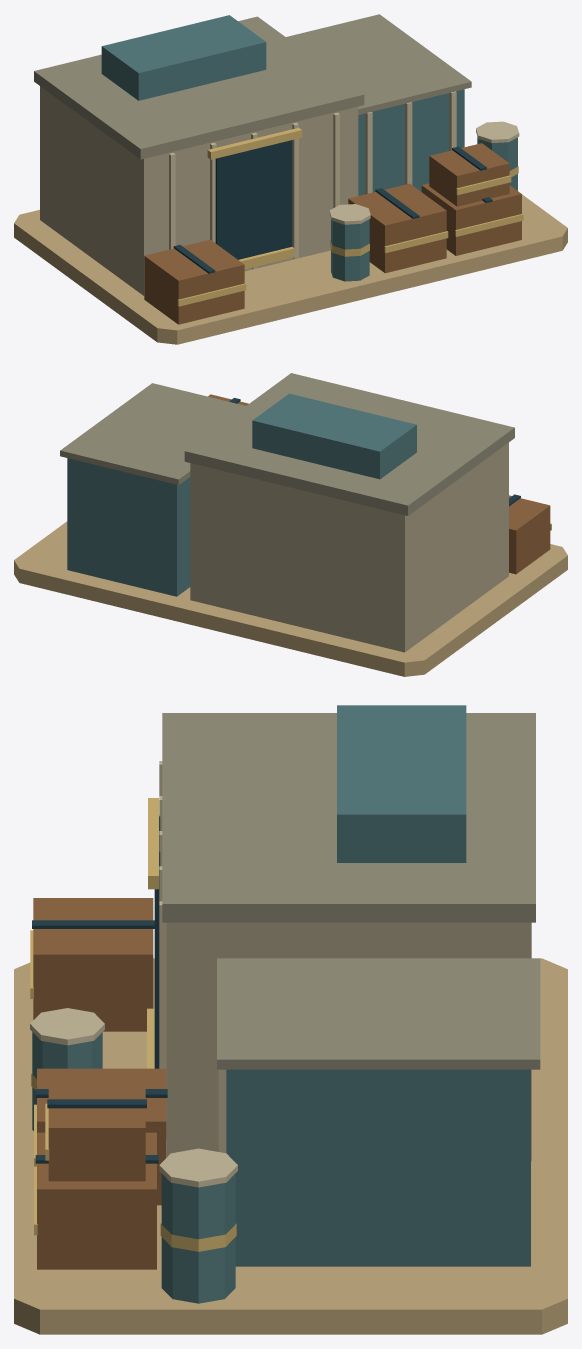
Rendered from coastal-ammo-depot.glb.
3 views of the same model, one above another, from view 1: azimuth 30°, elevation 25°; view 2: azimuth 150°, elevation 25°; view 3: azimuth 270°, elevation 25° (orthographic). The views are drawn at different scales.
Visible parts, largest first — view 1: intact_structure; view 2: intact_structure; view 3: intact_structure.
Part boxes in pixels (box(x1,y1,x2,y2)): intact_structure: box(14, 14, 567, 344); intact_structure: box(14, 373, 567, 676); intact_structure: box(14, 705, 567, 1334).
Size of the model in its own units: 9 by 4 by 6.
